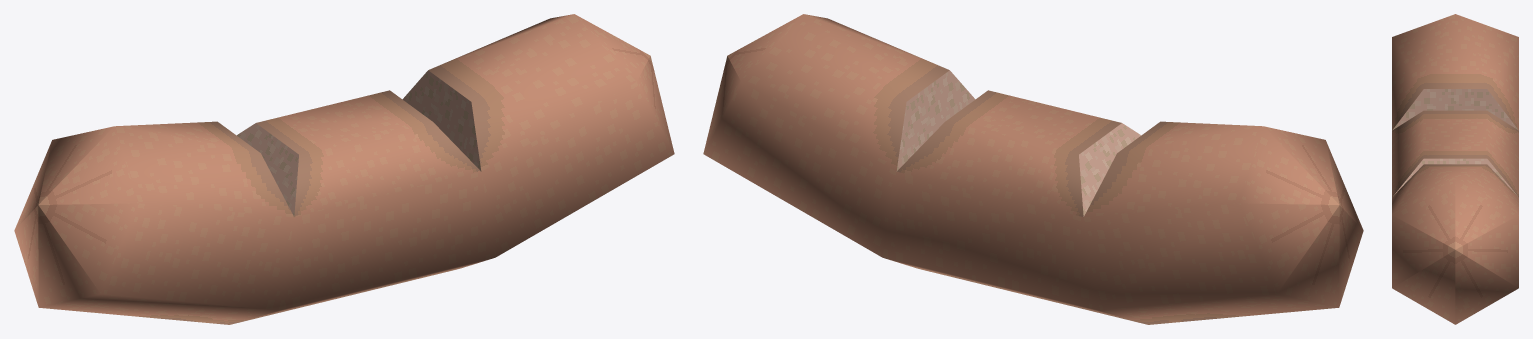
Rendered from 034c_Sausage.glb.
3 renders of one model, left to right at view 1: azimuth 30°, elevation 25°; view 2: azimuth 150°, elevation 25°; view 3: azimuth 270°, elevation 25°, orthographic. The views are drawn at different scales.
Parts seen in each view (by area): view 1: part_0; view 2: part_0; view 3: part_0.
Part boxes in pixels (box(x1,y1,x2,y2)): part_0: box(14, 14, 674, 324); part_0: box(703, 14, 1363, 324); part_0: box(1392, 14, 1518, 324).
Bounding box in the file's own units: 0.0707 × 0.025 × 0.0173.
1 material, 1 textured.
